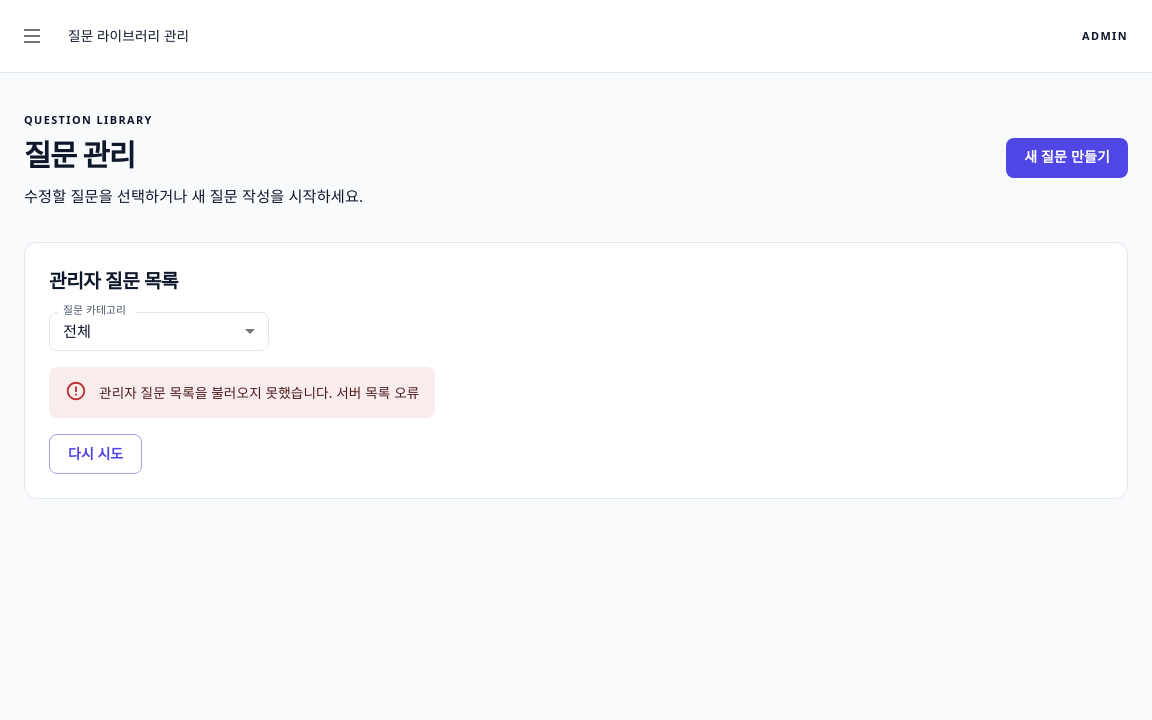
Test: recovers from server failure with a single manual GET retry
Check: the message shows "서버 목록 오류", box [99,383,420,402]
Check: the link "새 질문 만들기" is shown, box [1006,138,1128,178]
Click the button "다시 시도": (96, 454) [49,434,142,474]
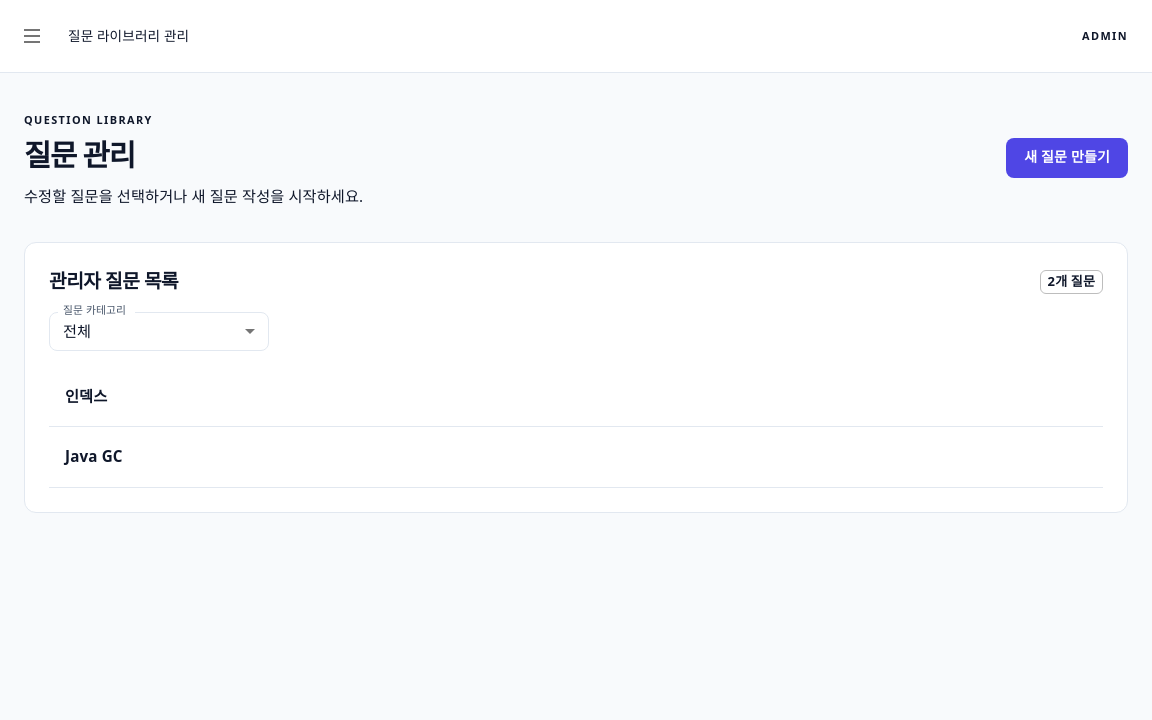
Check: the link "인덱스" is shown, box [65,386,107,406]
Check: the message "관리자 질문 목록을 불러오지 못했습니다. 서버 목록 오류" is gone
